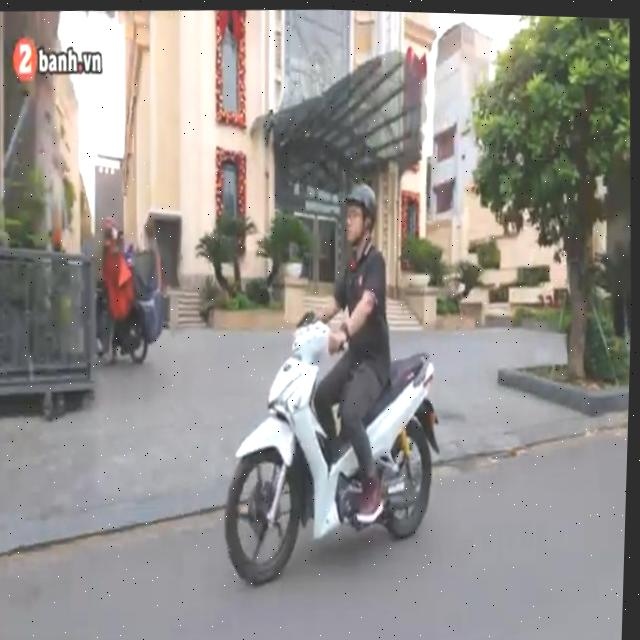motorcycle: (208, 293, 457, 594)
